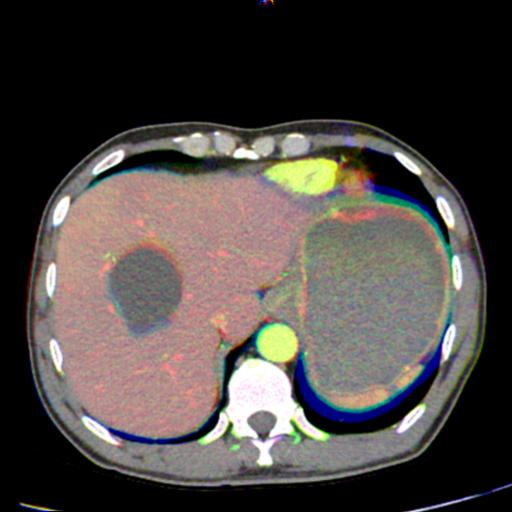Cyst: (108, 247, 181, 336)
